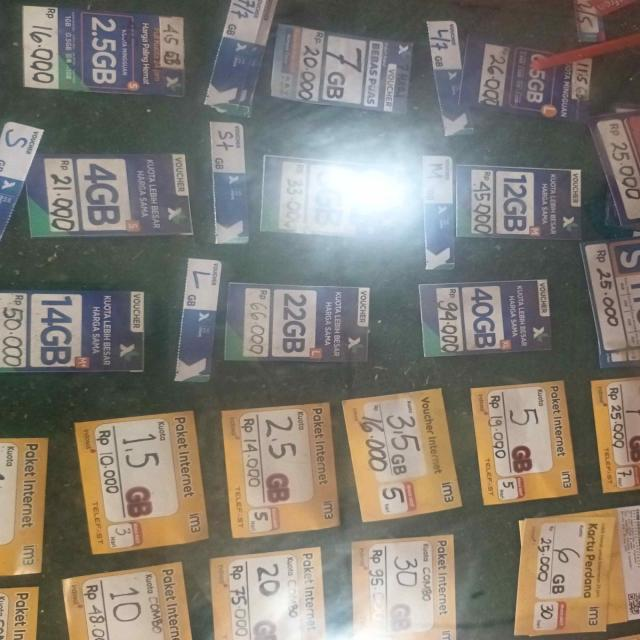Gratis Nelpon: (22, 4, 190, 94), (30, 156, 192, 239), (259, 153, 405, 243), (225, 278, 373, 365), (275, 26, 416, 116), (0, 288, 147, 372), (417, 280, 553, 355), (460, 163, 580, 239), (482, 40, 574, 121), (584, 246, 640, 368), (177, 258, 220, 387), (212, 3, 261, 113), (426, 20, 472, 136), (210, 122, 250, 246), (420, 155, 456, 268)
im3: (72, 409, 211, 556), (223, 400, 340, 538), (514, 507, 640, 633), (346, 390, 462, 519), (470, 382, 580, 507), (351, 535, 464, 640), (208, 547, 328, 639), (61, 562, 184, 638), (3, 437, 51, 573), (589, 376, 640, 492), (0, 585, 42, 639)
